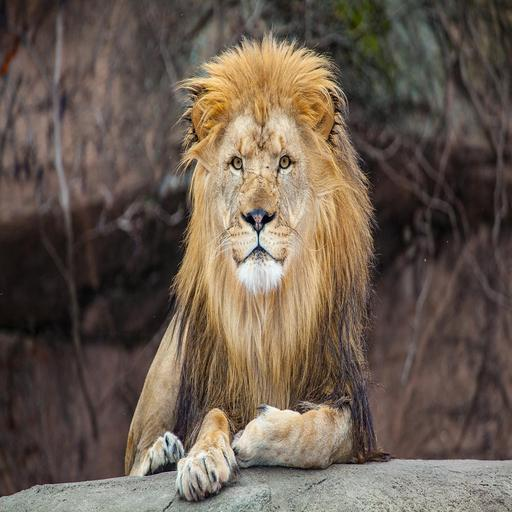Lion: (111, 28, 398, 508)
